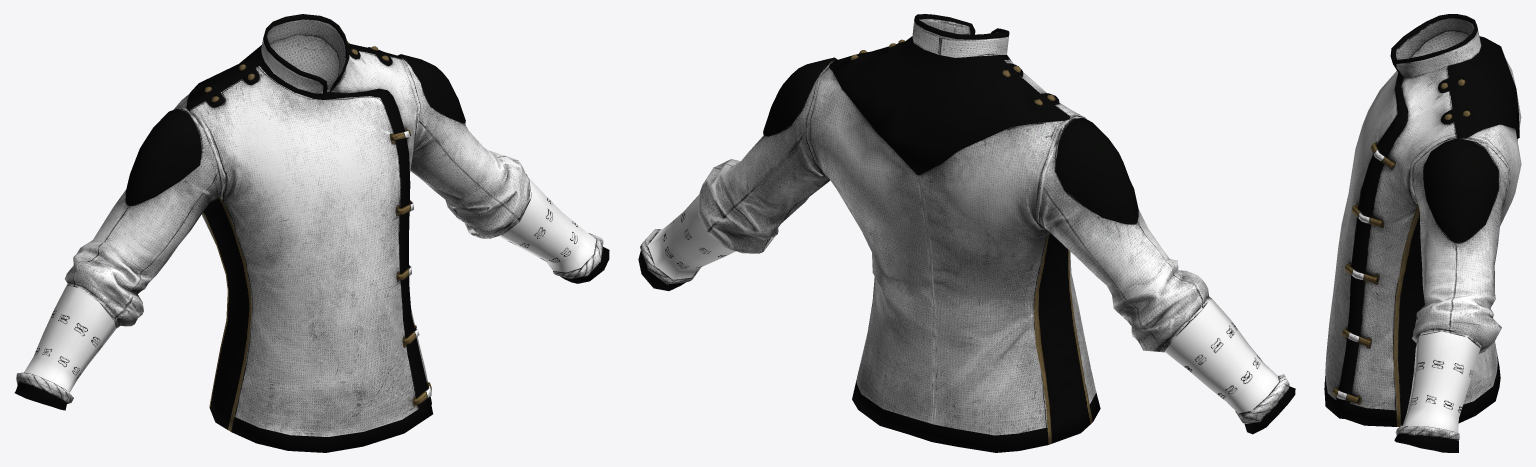
File: SurvivorMale_Chest_Shirt_Changshan_LOD0.glb
3 renders of one model, left to right at view 1: azimuth 30°, elevation 25°; view 2: azimuth 150°, elevation 25°; view 3: azimuth 270°, elevation 25°, orthographic. The views are drawn at different scales.
Visible parts, largest first — view 1: Hoodie; view 2: Hoodie; view 3: Hoodie.
Boxes of the visible parts, x1,y1,x2,y2 form: Hoodie: (14, 14, 609, 452); Hoodie: (638, 14, 1295, 452); Hoodie: (1324, 14, 1521, 452).
Bounding box in the file's own units: 1.16 × 0.7056 × 0.3462.
Materials: 1 (1 with a texture image).
